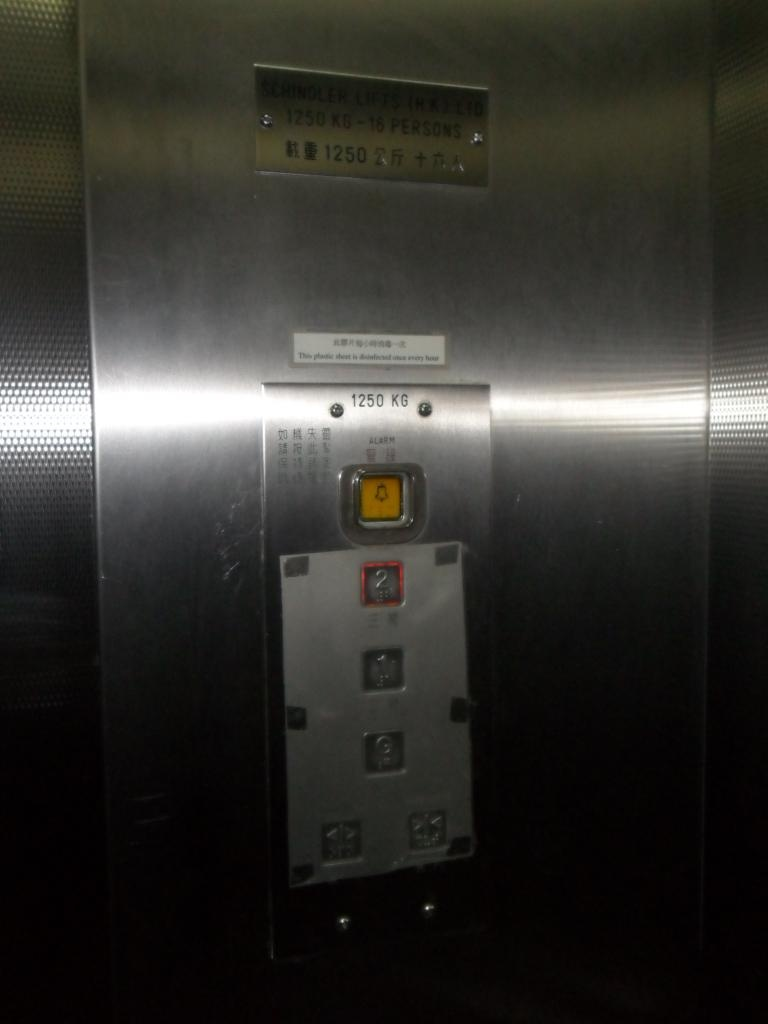1: (358, 643, 407, 693)
2: (361, 562, 405, 607)
G: (357, 729, 410, 777)
alarm: (353, 470, 413, 528)
close: (403, 806, 449, 851)
open: (319, 816, 368, 863)
